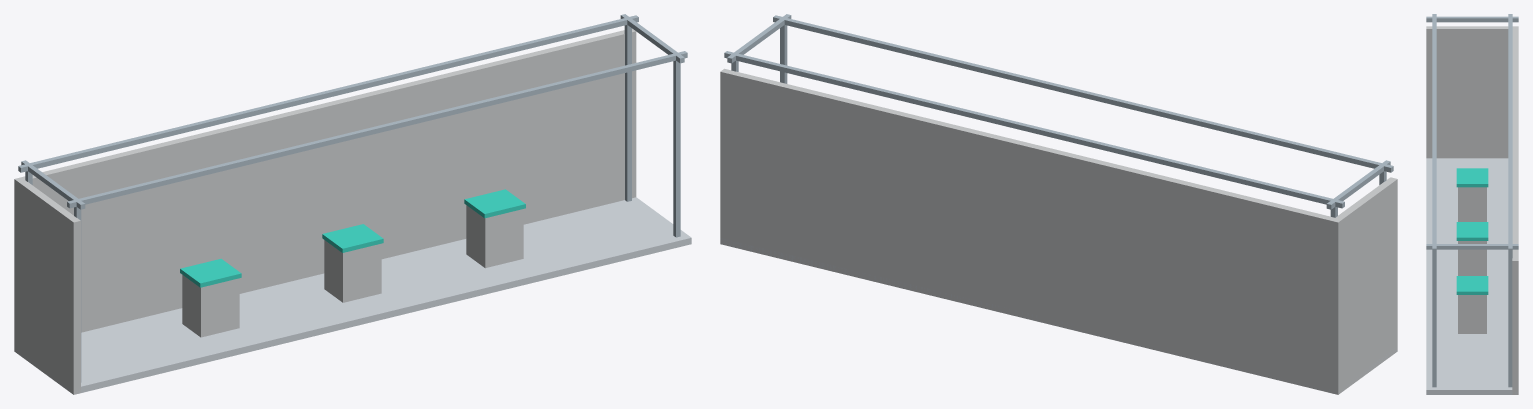
3 renders of one model, left to right at view 1: azimuth 30°, elevation 25°; view 2: azimuth 150°, elevation 25°; view 3: azimuth 270°, elevation 25°, orthographic. The views are drawn at different scales.
Parts seen in each view (by area): view 1: Exhibition Booth Concept; view 2: Exhibition Booth Concept; view 3: Exhibition Booth Concept.
Part boxes in pixels (box(x1,y1,x2,y2)): Exhibition Booth Concept: box(14, 14, 691, 394); Exhibition Booth Concept: box(720, 14, 1397, 394); Exhibition Booth Concept: box(1426, 14, 1518, 394).
Size of the model in its own units: 12 by 3.49 by 2.
